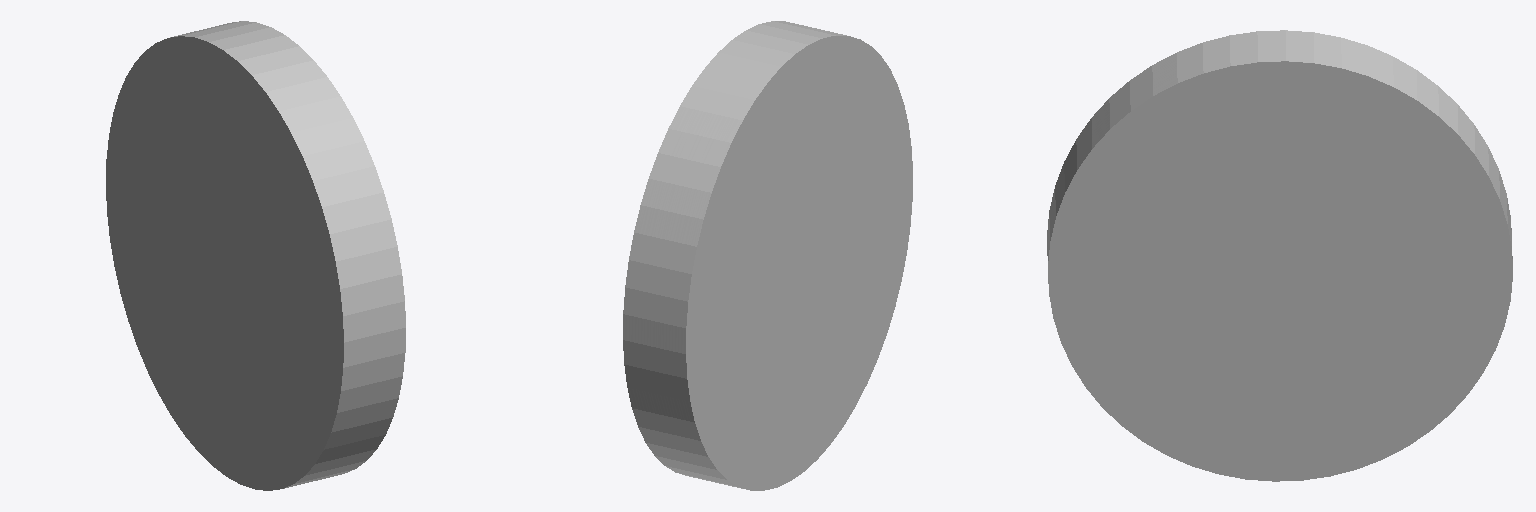
The model's file is coin1.obj.
3 views of the same model, side by side, from view 1: azimuth 30°, elevation 25°; view 2: azimuth 150°, elevation 25°; view 3: azimuth 270°, elevation 25° (orthographic).
Visible parts, largest first — view 1: Cylinder001_Mesh; view 2: Cylinder001_Mesh; view 3: Cylinder001_Mesh.
Part boxes in pixels (bbox=[...]): Cylinder001_Mesh: bbox=[106, 21, 405, 490]; Cylinder001_Mesh: bbox=[623, 21, 912, 490]; Cylinder001_Mesh: bbox=[1047, 30, 1512, 481].
Size of the model in its own units: 0.0276 by 0.1618 by 0.162.